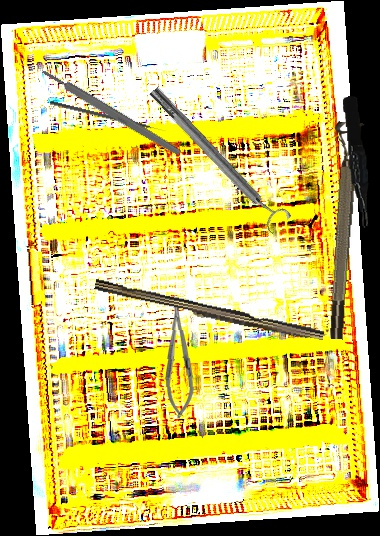Fixation Ring: (143, 78, 293, 237), (316, 121, 366, 340)
Hook Surgical: (49, 100, 167, 135)
Needle Holder: (162, 298, 196, 419)
Scalpel Handle: (92, 278, 326, 346), (40, 66, 183, 158)
Tissue Forceps: (342, 95, 372, 229)
